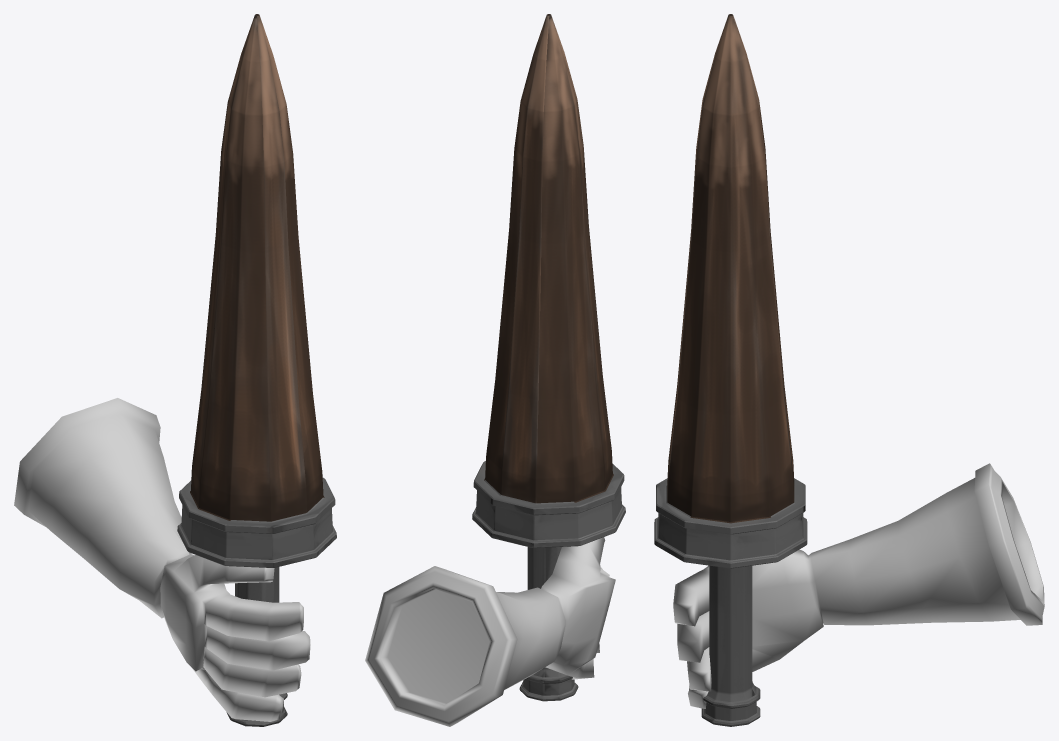
The model's file is Mod_lance_With_Hand_1-5.fbx.
3 renders of one model, left to right at view 1: azimuth 30°, elevation 25°; view 2: azimuth 150°, elevation 25°; view 3: azimuth 270°, elevation 25°, orthographic. The views are drawn at different scales.
Visible parts, largest first — view 1: polySurface13; view 2: polySurface13; view 3: polySurface13.
Part boxes in pixels (box(x1,y1,x2,y2)): polySurface13: box(14, 14, 336, 726); polySurface13: box(365, 14, 625, 726); polySurface13: box(654, 14, 1044, 726).
Bounding box in the file's own units: 17.53 × 69.4 × 35.07.
